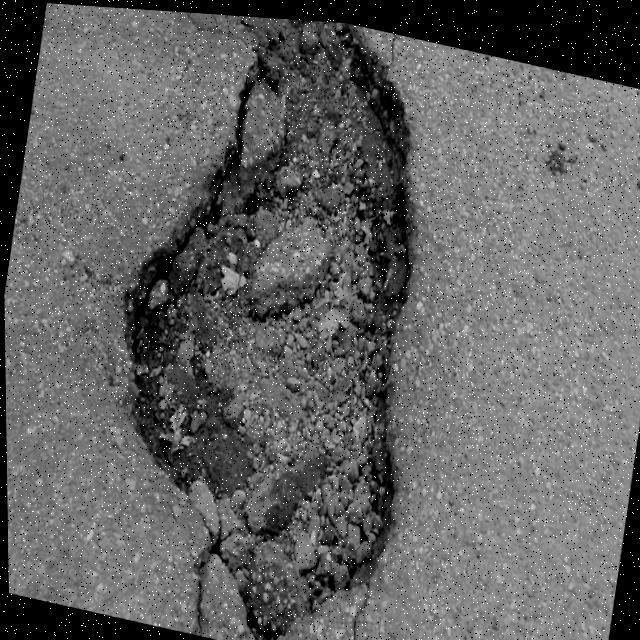pothole: (69, 4, 476, 640)
